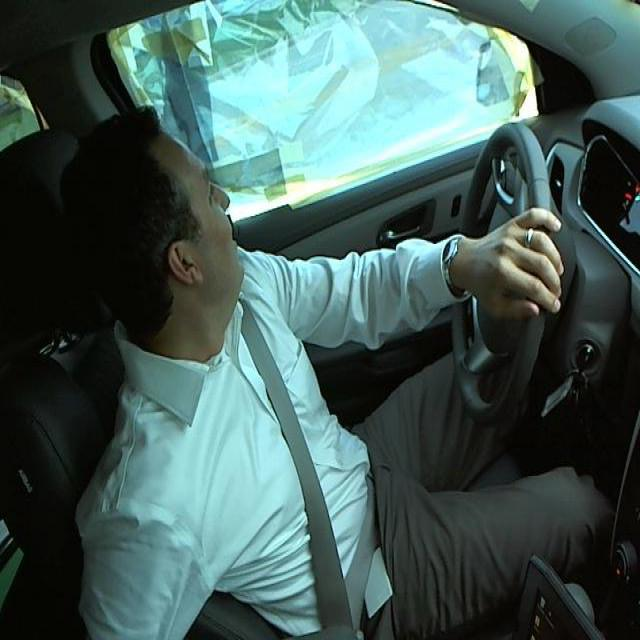seatbelt: (233, 310, 393, 630)
